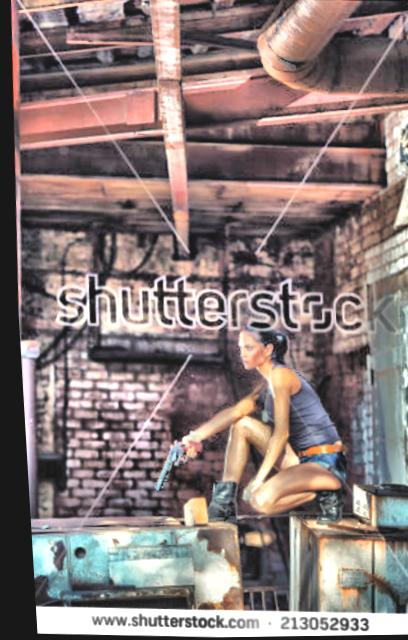pistol: (144, 432, 198, 493)
